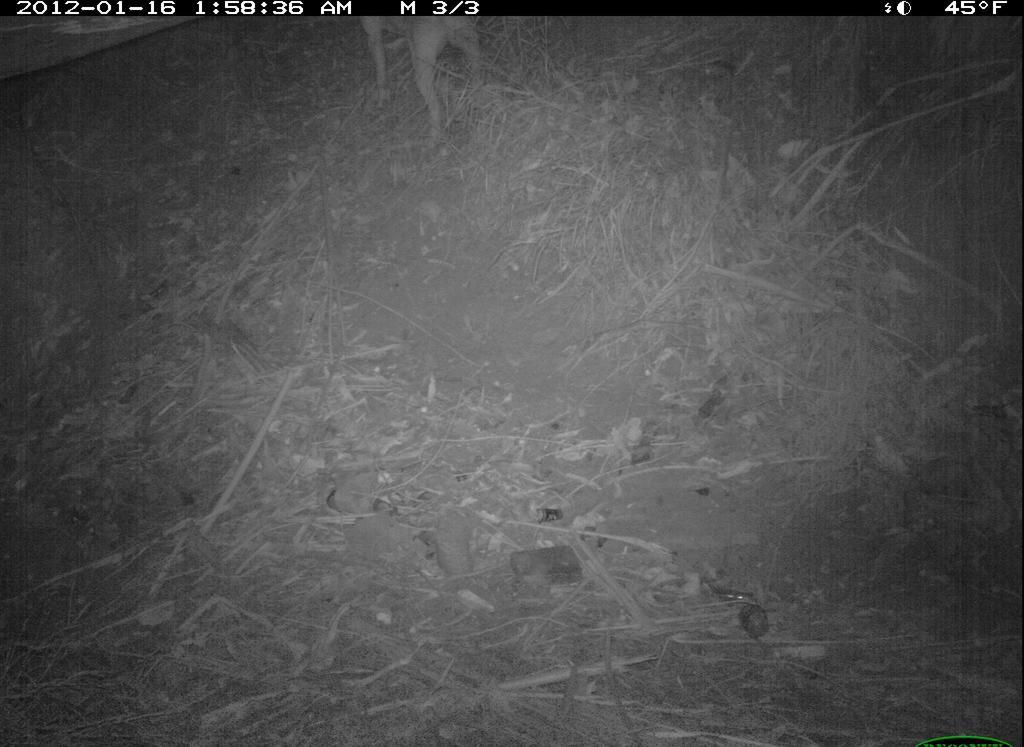dog: (354, 12, 492, 145)
